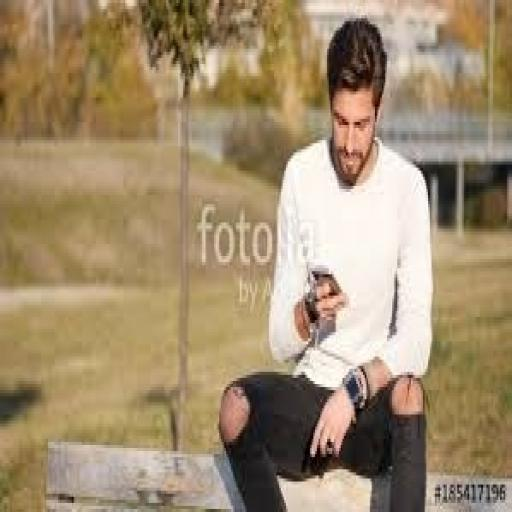calling: (216, 15, 435, 509)
